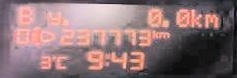-: (60, 18, 68, 25), (161, 20, 168, 26)
0: (175, 8, 189, 26), (147, 8, 161, 26), (14, 27, 29, 43)
2: (58, 28, 72, 44)
3: (127, 51, 143, 69), (136, 29, 150, 46), (76, 28, 89, 45), (38, 55, 50, 68)
4: (110, 50, 126, 68)
7: (122, 29, 135, 45), (92, 28, 105, 44), (107, 29, 119, 44)
9: (86, 50, 102, 69)
X: (17, 6, 32, 24), (203, 12, 218, 27), (47, 10, 61, 25), (190, 9, 200, 26), (55, 55, 66, 68), (104, 53, 109, 66), (151, 29, 158, 38), (159, 31, 168, 37)
